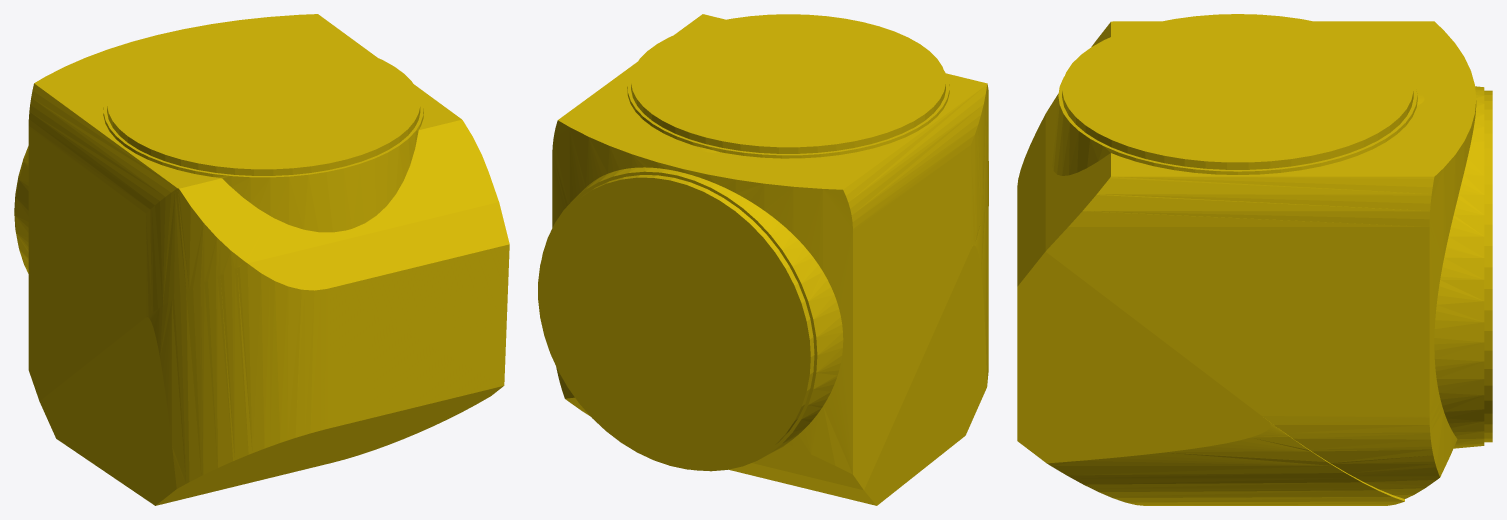
The picture shows the model from 3 angles, left to right: view 1: azimuth 30°, elevation 25°; view 2: azimuth 150°, elevation 25°; view 3: azimuth 270°, elevation 25°; orthographic projection. The views are drawn at different scales.
Visible parts, largest first — view 1: link_3; view 2: link_3; view 3: link_3.
Boxes of the visible parts, bbox=[...] form: link_3: bbox=[14, 14, 509, 505]; link_3: bbox=[538, 14, 988, 505]; link_3: bbox=[1017, 14, 1492, 505].
Size of the model in its own units: 0.26 by 0.319 by 0.285.
